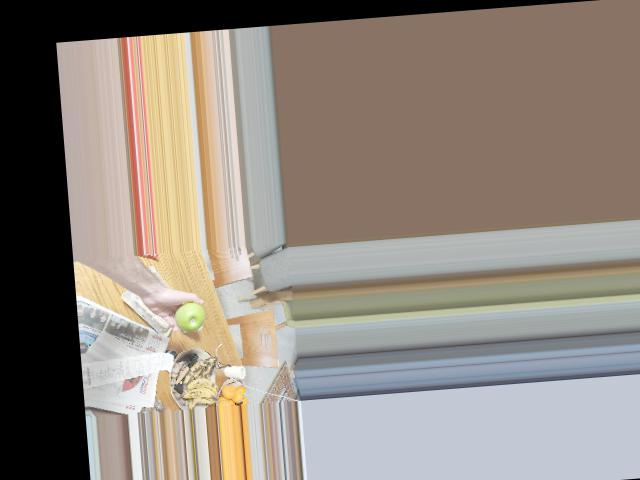apple: (169, 298, 212, 335)
